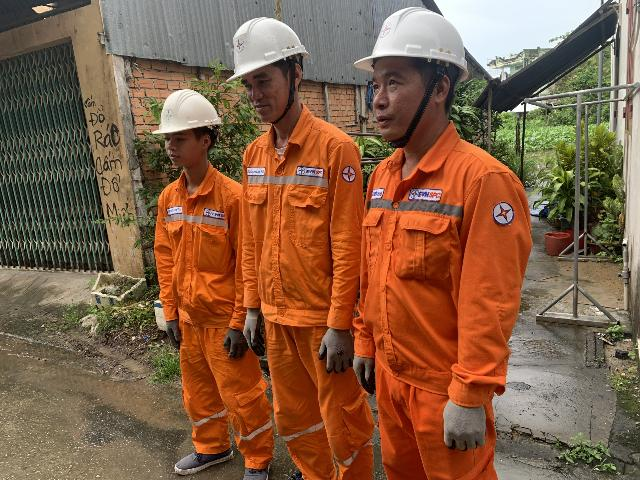gloves: (416, 378, 490, 456), (309, 319, 352, 372), (345, 341, 380, 389), (239, 308, 269, 352), (162, 309, 192, 352), (218, 320, 246, 364)
helmet: (353, 12, 472, 84), (217, 0, 309, 88), (149, 83, 220, 140)
shoes: (150, 442, 240, 477), (233, 453, 274, 480)
